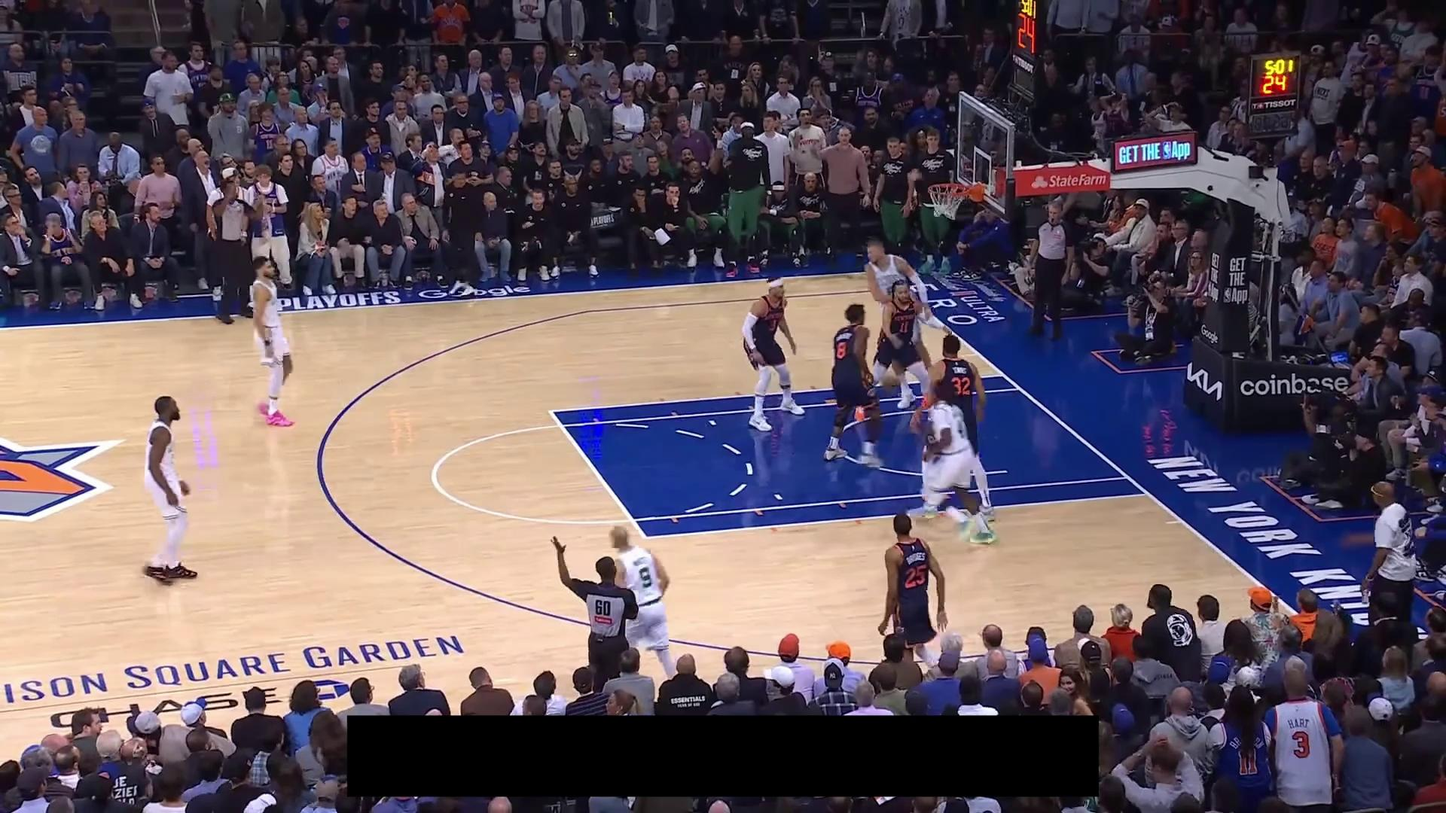ball: (879, 370, 901, 392)
number: (905, 565, 926, 589), (951, 376, 971, 396), (639, 565, 653, 589), (836, 341, 847, 360), (956, 420, 966, 439), (899, 320, 910, 334)
player: (908, 333, 996, 520), (854, 279, 953, 422), (915, 382, 999, 547), (601, 521, 679, 684), (877, 512, 950, 674), (865, 239, 933, 410), (140, 394, 200, 586), (739, 274, 807, 433), (822, 301, 885, 471), (248, 254, 297, 428)
referee: (553, 534, 639, 695), (206, 176, 265, 325), (1026, 200, 1075, 341)
rim: (926, 182, 971, 197)
